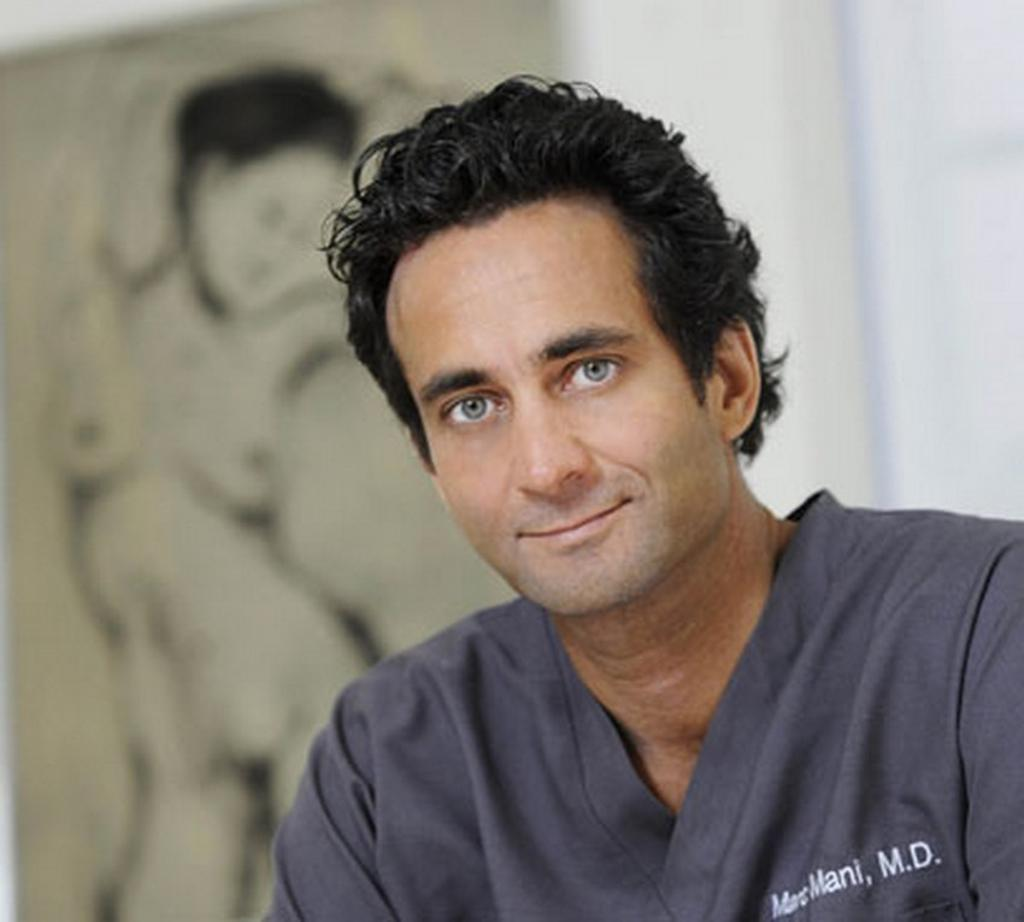face: (390, 198, 710, 612)
